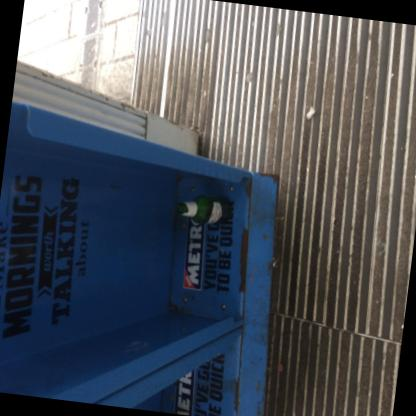Plastic: (174, 194, 230, 223)
Waste: (305, 105, 316, 119)
